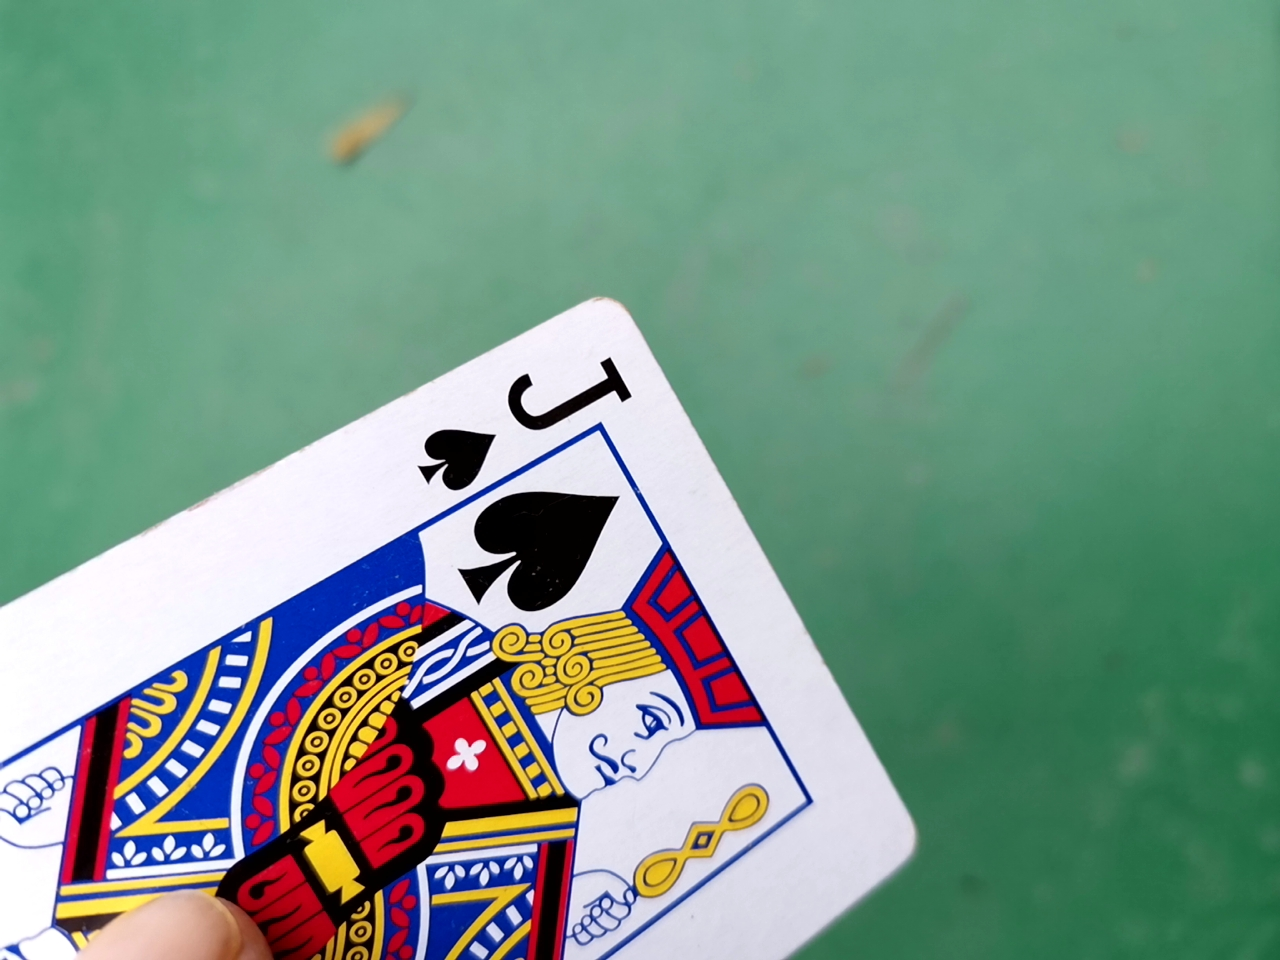ht j: (2, 274, 978, 959)
